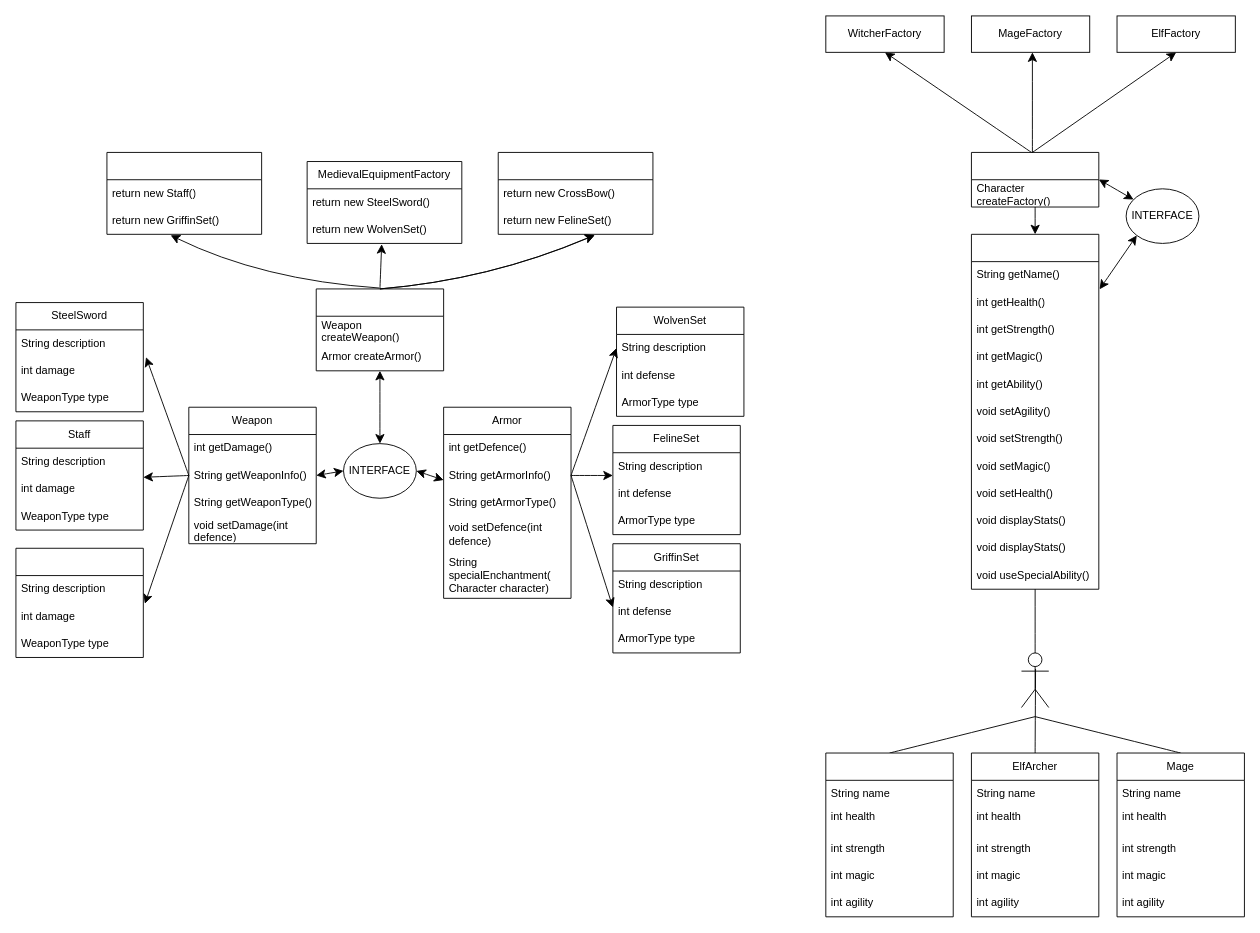
The diagram is 1260 pixels wide and 933 high, and some of its shapes have lost their labels. The shapes that lost their labels are listed below. From the top down, each one's box as (x1, y1, x2, y2) in pixels, then its label:
(106, 152, 262, 234): MagicallEquipmentFactory
(497, 152, 653, 234): RangerEquipmentFactory
(971, 152, 1099, 207): CharacterFactory
(315, 288, 444, 371): EquipmentFactory
(971, 233, 1099, 589): Character
(15, 547, 143, 657): CrossBow
(825, 752, 953, 917): Witcher
